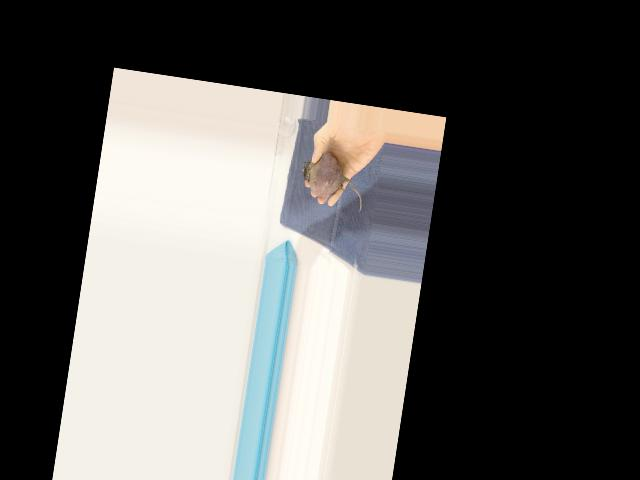beet: (297, 149, 369, 213)
